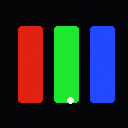0 point: (67, 97, 73, 103)
